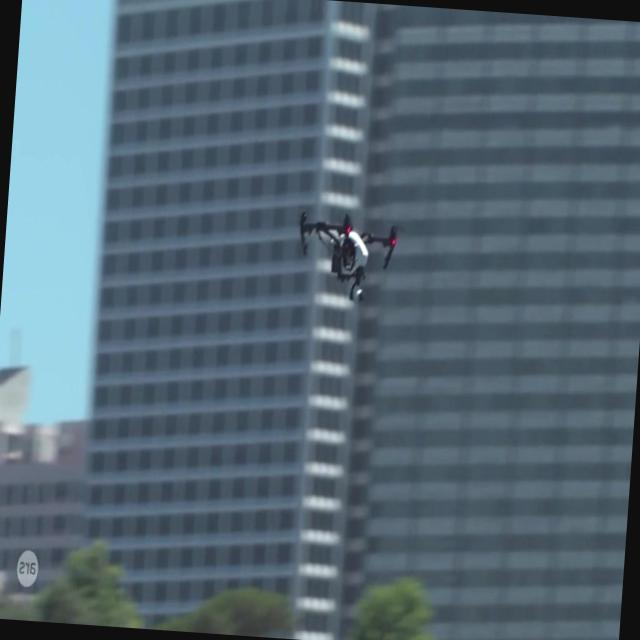drone: (292, 203, 400, 310)
